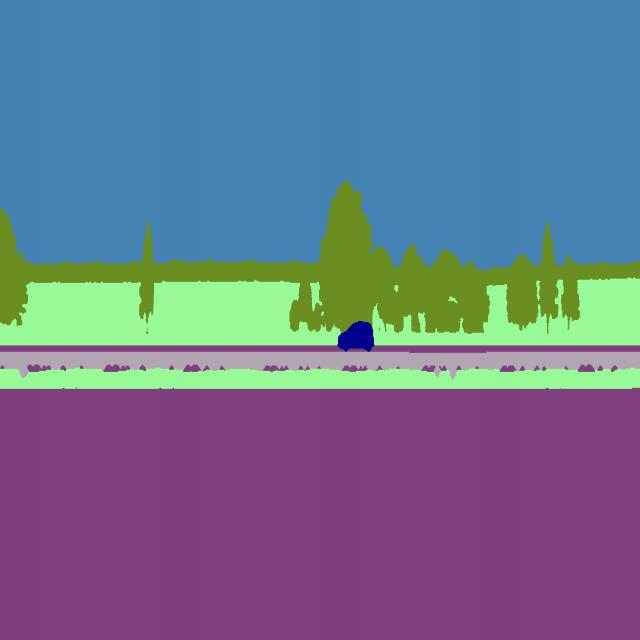safe: (334, 313, 377, 356)
